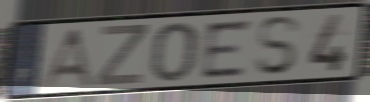4: (307, 12, 349, 75)
A: (36, 26, 96, 91)
E: (200, 17, 254, 81)
O: (149, 19, 200, 84)
S: (252, 14, 304, 79)
Z: (93, 23, 150, 88)
